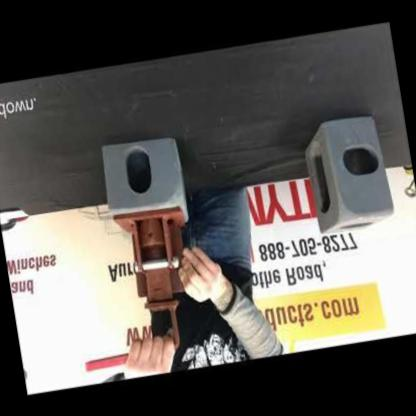CornerCasting: (290, 104, 400, 242), (95, 129, 195, 239)
